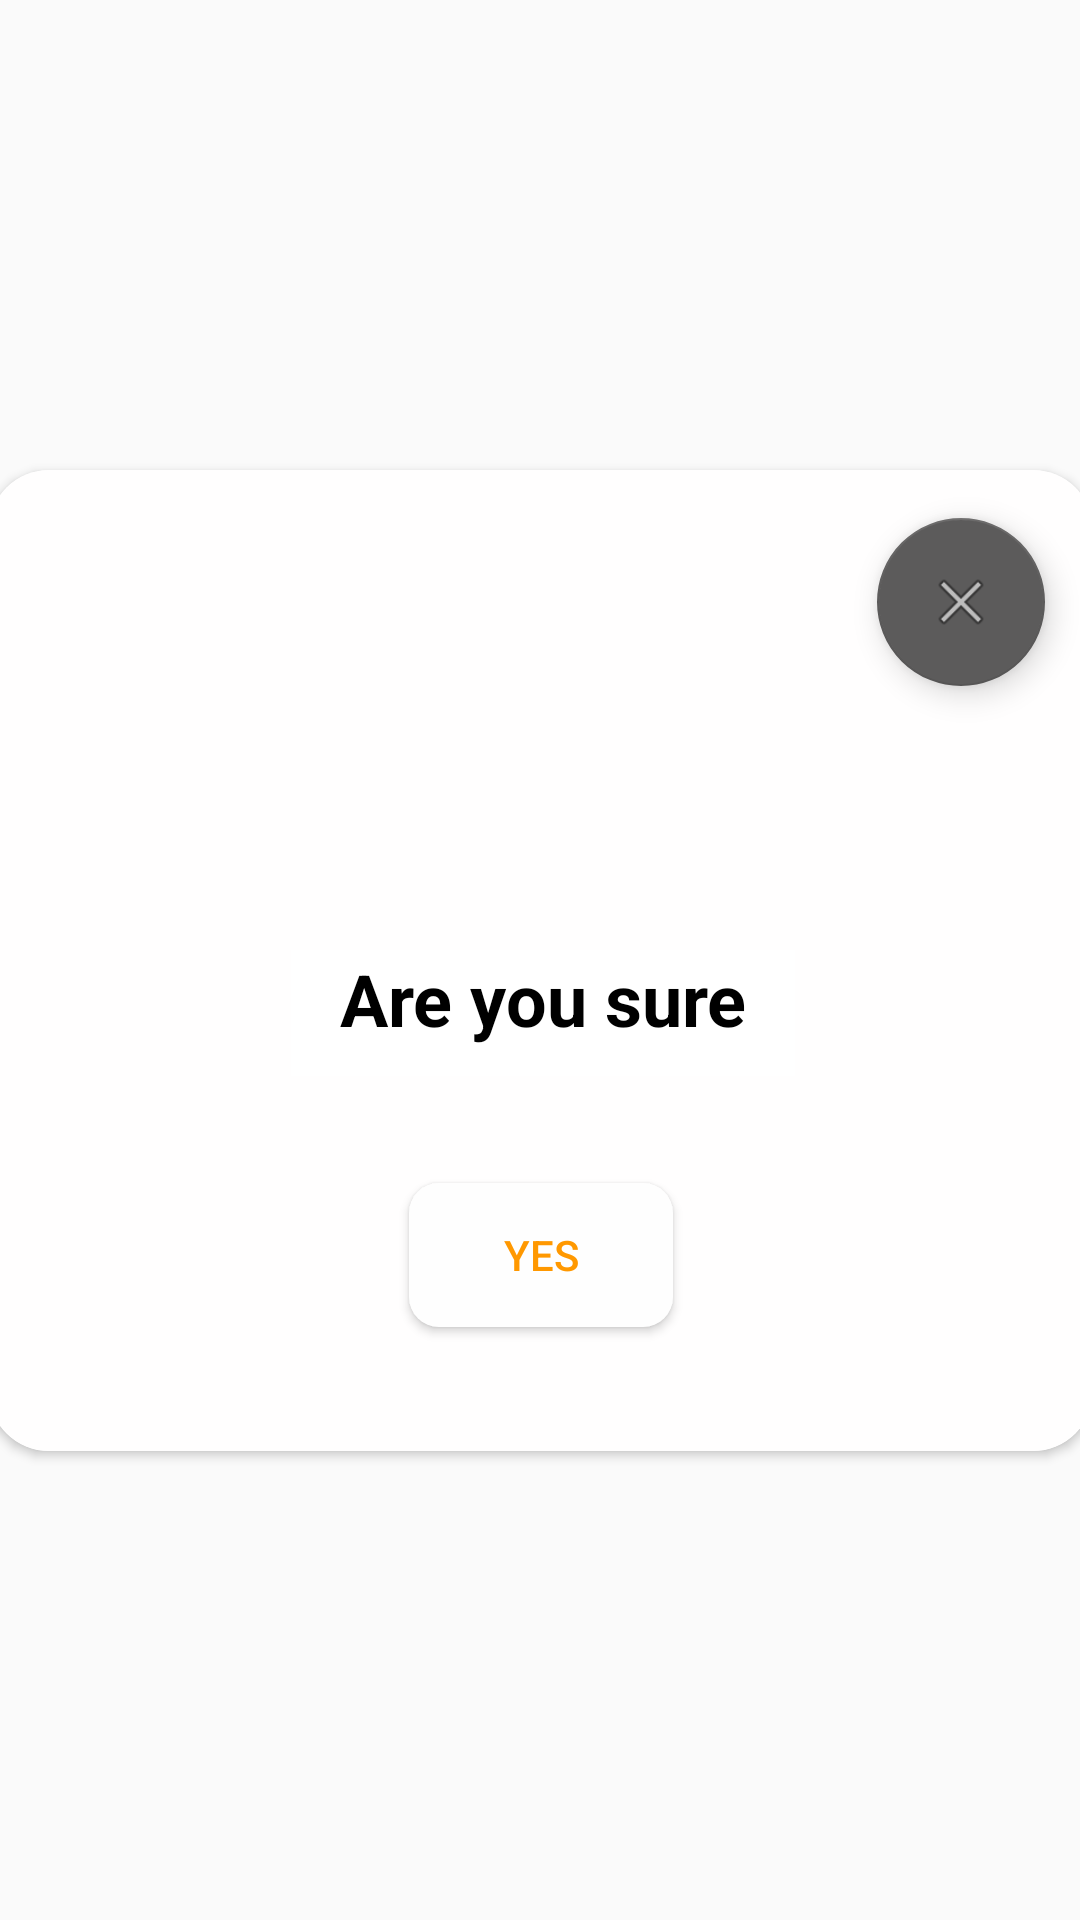

Where to tap for icons on this 1080×1920 app screen, as point (x, y):
close clear cancel: point (961, 602)
